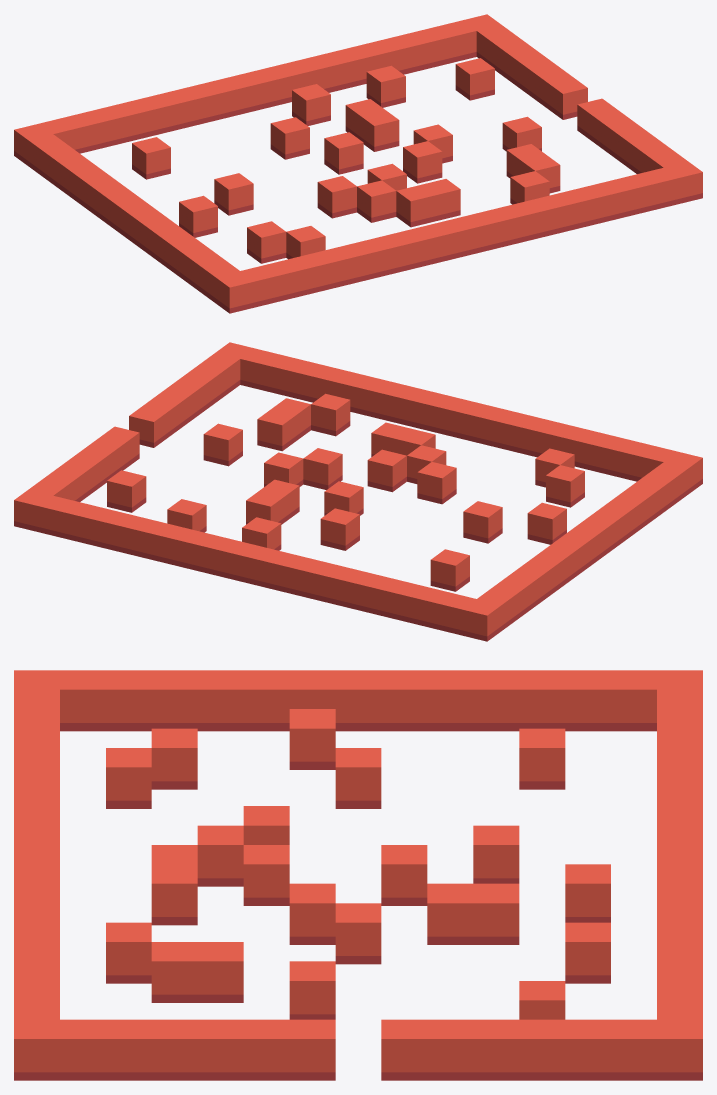
Rendered from map15.obj.
3 renders of one model, top to bottom at view 1: azimuth 30°, elevation 25°; view 2: azimuth 150°, elevation 25°; view 3: azimuth 270°, elevation 25°, orthographic. The views are drawn at different scales.
Parts seen in each view (by area): view 1: mergedBlocks; view 2: mergedBlocks; view 3: mergedBlocks.
Part boxes in pixels (x1=…): mergedBlocks: x1=14, y1=14, x2=702, y2=313; mergedBlocks: x1=14, y1=342, x2=702, y2=641; mergedBlocks: x1=14, y1=670, x2=702, y2=1080.
Bounding box in the file's own units: 19 × 1 × 15.
